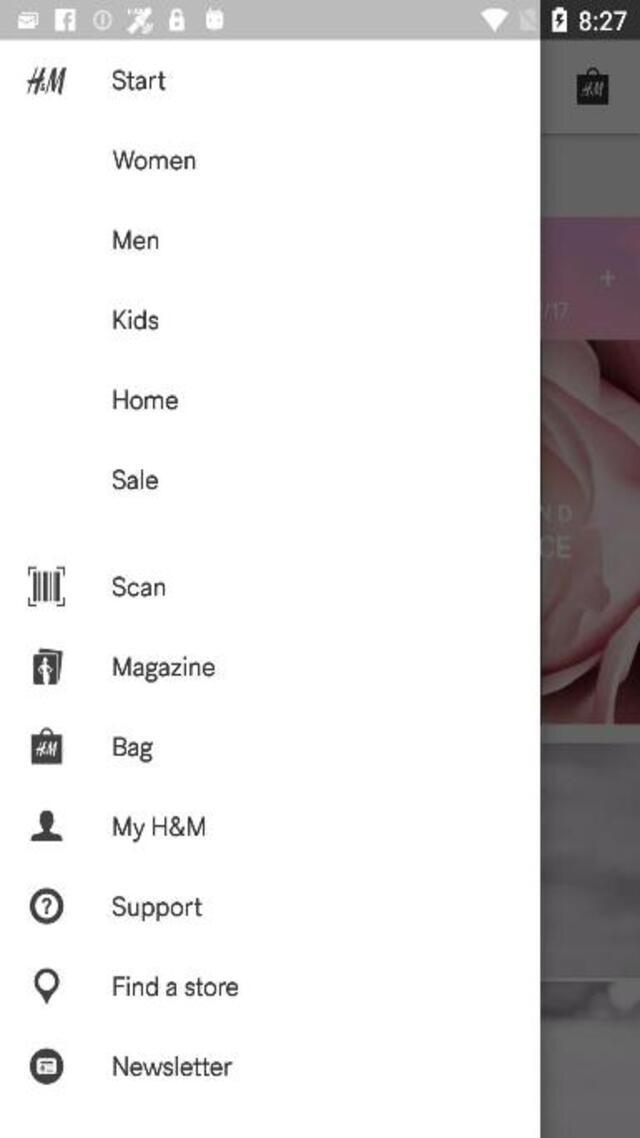Icon: (28, 568, 66, 606), (29, 1048, 64, 1086), (29, 886, 64, 924), (31, 726, 62, 764), (33, 646, 63, 684), (27, 66, 66, 94), (34, 966, 59, 1004), (31, 810, 62, 840)
Text: (114, 655, 215, 682), (113, 1054, 233, 1076), (114, 975, 238, 996), (113, 815, 206, 842), (113, 895, 203, 922), (113, 150, 196, 170), (114, 390, 179, 411), (112, 576, 164, 598), (112, 70, 164, 91), (113, 736, 153, 761), (111, 470, 158, 491), (114, 310, 159, 331), (114, 230, 159, 250)
